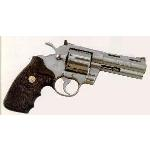Pistol: (2, 40, 146, 112)
